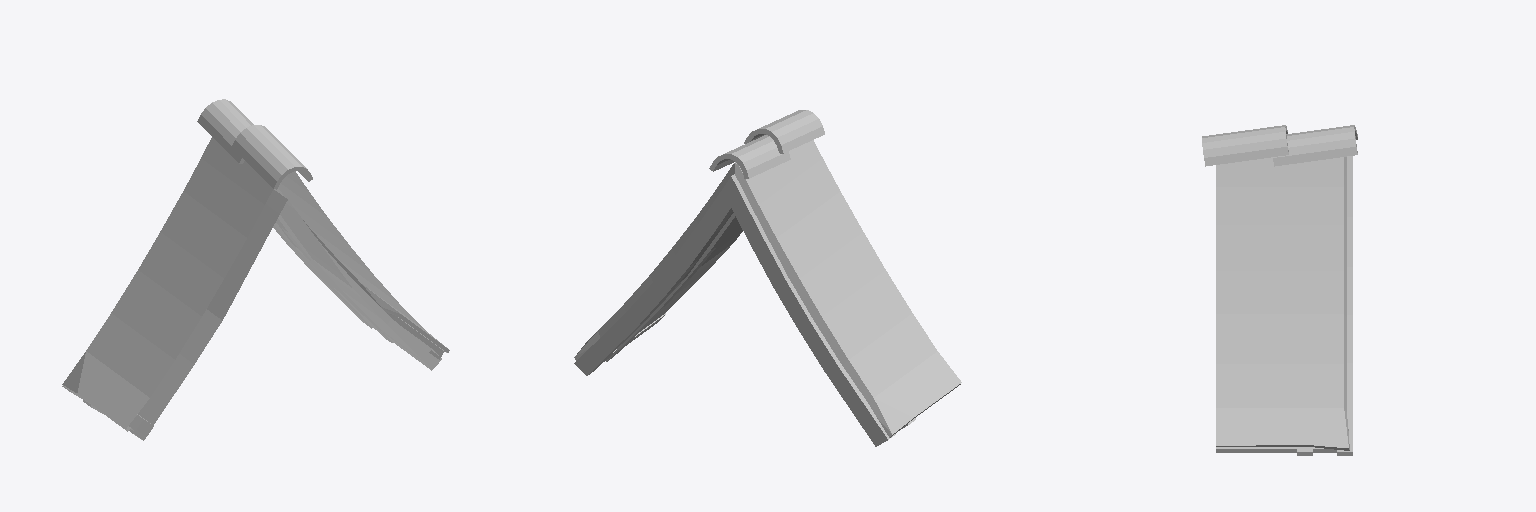
File: Roof_Modular_FlatTiles_4_R.obj
3 views of the same model, side by side, from view 1: azimuth 30°, elevation 25°; view 2: azimuth 150°, elevation 25°; view 3: azimuth 270°, elevation 25° (orthographic).
Parts seen in each view (by area): view 1: Roof_Modular_FlatTiles_4_R; view 2: Roof_Modular_FlatTiles_4_R; view 3: Roof_Modular_FlatTiles_4_R.
Part boxes in pixels (x1,y1,x2,y2): Roof_Modular_FlatTiles_4_R: (62, 99, 449, 440); Roof_Modular_FlatTiles_4_R: (574, 110, 961, 446); Roof_Modular_FlatTiles_4_R: (1202, 125, 1357, 455).
Bounding box in the file's own units: 5.4 × 4.1 × 2.25.